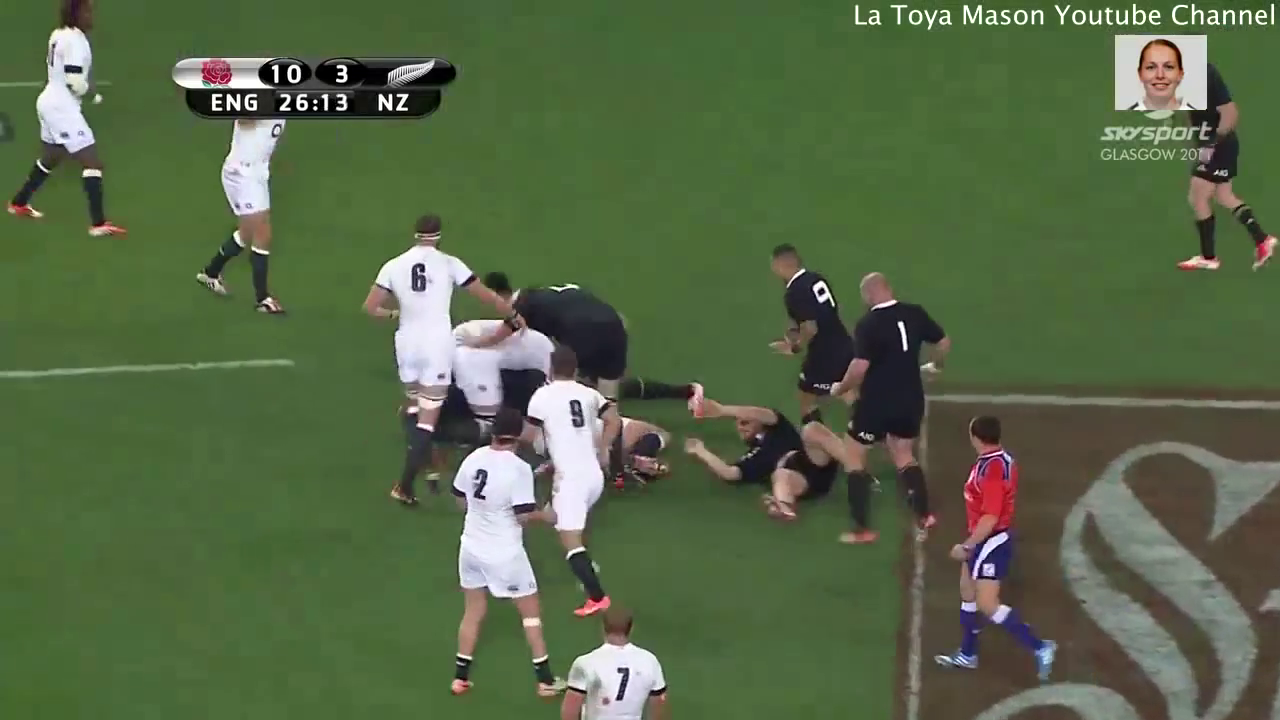player: (356, 200, 530, 514), (419, 397, 583, 703), (921, 402, 1069, 682), (486, 260, 641, 511), (512, 336, 643, 629), (825, 260, 949, 552), (1, 1, 147, 248), (673, 371, 873, 545), (182, 103, 329, 324), (1151, 52, 1280, 280), (758, 235, 866, 438), (548, 588, 685, 720)
ruck: (346, 247, 679, 508)
